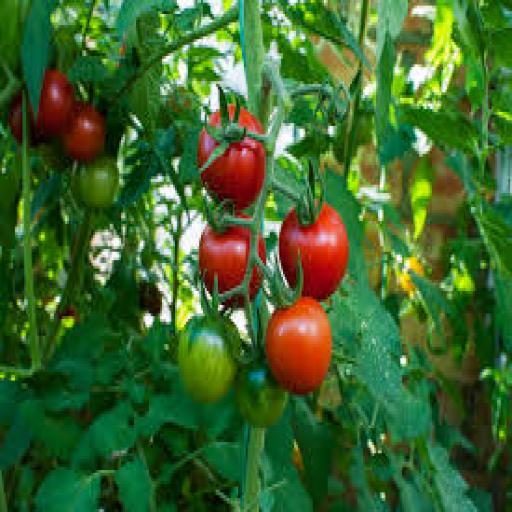tomato: (280, 205, 350, 299), (267, 297, 331, 394), (179, 317, 240, 402), (202, 138, 266, 209), (235, 364, 288, 428), (200, 227, 251, 293), (62, 101, 106, 162), (36, 70, 74, 137), (75, 157, 119, 209), (0, 0, 29, 72), (0, 154, 22, 212), (399, 258, 424, 296), (140, 283, 161, 316), (8, 93, 22, 142), (293, 443, 305, 475)
